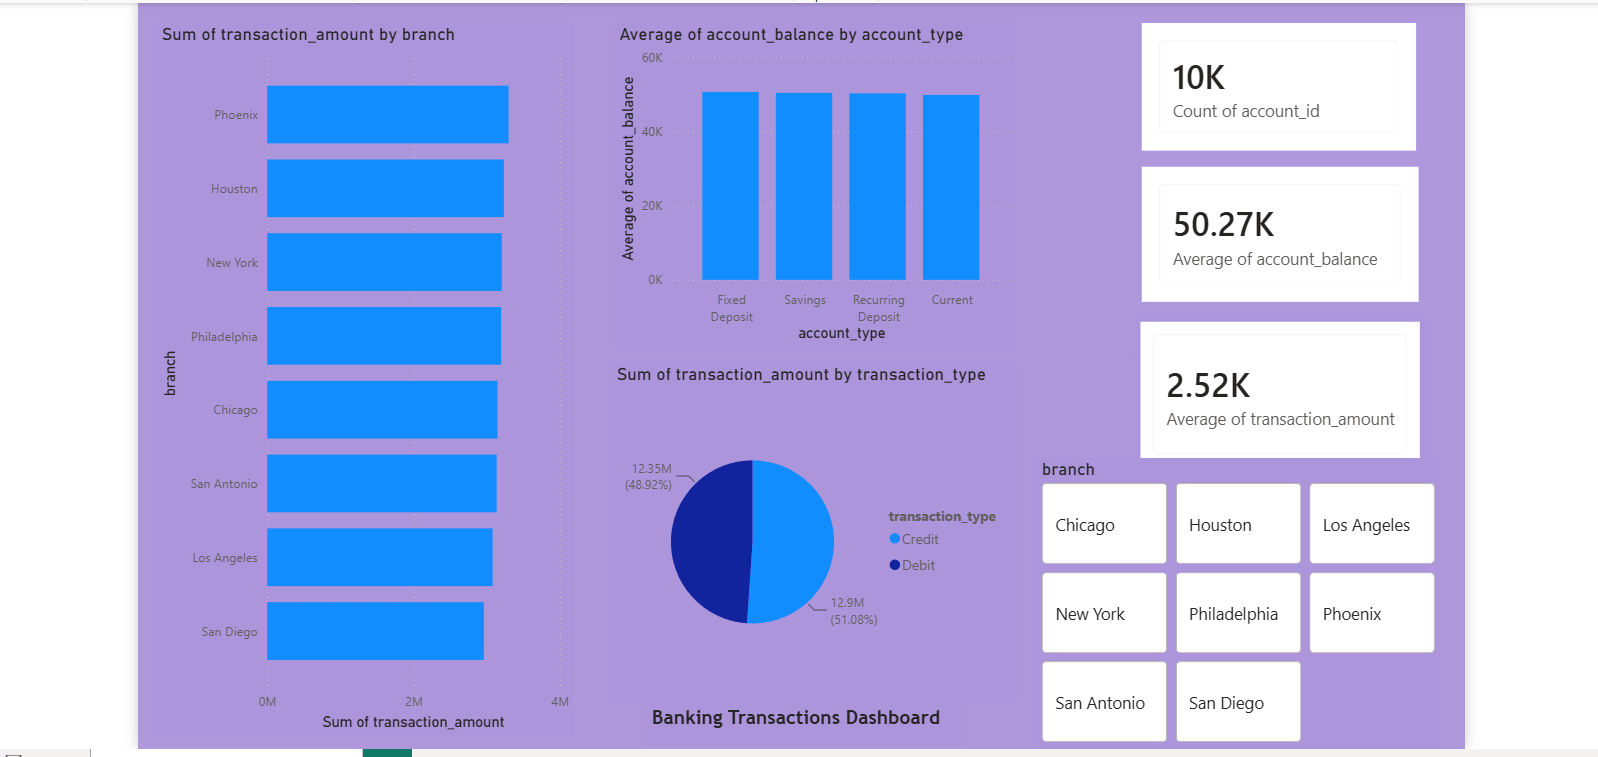

The dashboard page shown, as its layout file describes it:
{"tool":"powerbi","page":{"name":"Banking Transactions Dashboard","canvas":[1280,720],"ordinal":0},"visuals":[{"type":"clusteredBarChart","fields":{"Category":["banking_analysis transactions.branch"],"Y":["Sum(banking_analysis transactions.transaction_amount)"]},"box":[17.8,19.2,403.4,687.5],"z":0},{"type":"pieChart","fields":{"Category":["banking_analysis transactions.transaction_type"],"Y":["Sum(banking_analysis transactions.transaction_amount)"]},"box":[456.9,347.2,391.1,326.6],"z":1},{"type":"clusteredColumnChart","fields":{"Category":["banking_analysis transactions.account_type"],"Y":["Avg(banking_analysis transactions.account_balance)"]},"box":[459.7,19.2,388.3,312.9],"z":3},{"type":"cardVisual","fields":{"Data":["Avg(banking_analysis transactions.transaction_amount)"]},"box":[963.3,303.3,279.9,150.9],"z":4},{"type":"cardVisual","fields":{"Data":["CountNonNull(banking_analysis transactions.account_id)"]},"box":[968.8,19.2,264.8,123.5],"z":5},{"type":"cardVisual","fields":{"Data":["Avg(banking_analysis transactions.account_balance)"]},"box":[968.8,157.8,267.6,130.4],"z":6},{"type":"advancedSlicerVisual","fields":{"Values":["banking_analysis transactions.branch"]},"box":[867.2,439.1,389.7,281.3],"z":7},{"type":"textbox","box":[491.3,673.8,303.3,43.9],"z":8}]}

Visuals, with their boxes on the page's 1280x720 design canvas (x1, y1, x2, y2). These are canvas units, not pixel positions in the 1598x757 screenshot, which may show the page scaled, cropped or inside an application window:
clusteredBarChart - banking_analysis transactions.branch x Sum(banking_analysis transactions.transaction_amount): {"left": 18, "top": 19, "right": 421, "bottom": 707}
pieChart - banking_analysis transactions.transaction_type x Sum(banking_analysis transactions.transaction_amount): {"left": 457, "top": 347, "right": 848, "bottom": 674}
clusteredColumnChart - banking_analysis transactions.account_type x Avg(banking_analysis transactions.account_balance): {"left": 460, "top": 19, "right": 848, "bottom": 332}
cardVisual - Avg(banking_analysis transactions.transaction_amount): {"left": 963, "top": 303, "right": 1243, "bottom": 454}
cardVisual - CountNonNull(banking_analysis transactions.account_id): {"left": 969, "top": 19, "right": 1234, "bottom": 143}
cardVisual - Avg(banking_analysis transactions.account_balance): {"left": 969, "top": 158, "right": 1236, "bottom": 288}
advancedSlicerVisual - banking_analysis transactions.branch: {"left": 867, "top": 439, "right": 1257, "bottom": 720}
textbox: {"left": 491, "top": 674, "right": 795, "bottom": 718}
